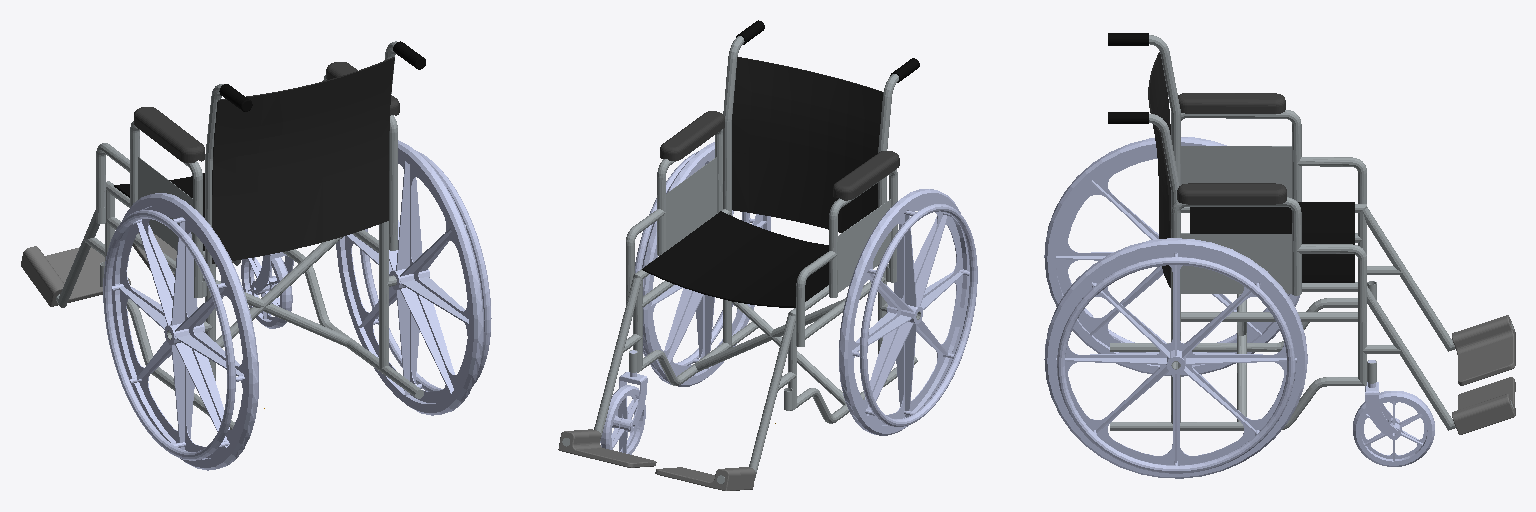
The robot description file, URDF, robot "nirajwheelchair":
<robot
  name="nirajwheelchair">
  <link name="base_footprint">
    <visual>
      <origin xyz="0 0 0" rpy="0 0 0" />
        <geometry>
          <box size="0.001 0.001 0.001" />
        </geometry>
    </visual>
  </link>

  <joint name="base_footprint_joint" type="fixed">
    <origin xyz=" 0 0 0.2413" rpy="0 0 0"/>
    <parent link="base_footprint"/>
    <child link="base_link"/>
  </joint>
  <link
    name="base_link">
    <inertial>
      <origin
        xyz="-1.28082845038258E-05 0.101071625118331 -0.0727610834451831"
        rpy="0 0 0" />
      <mass
        value="2.91813448792695" />
      <inertia
        ixx="0.256407422045815"
        ixy="9.4092534200971E-07"
        ixz="-5.14055785103768E-06"
        iyy="0.264943521878258"
        iyz="0.0458755340734657"
        izz="0.241041719198046" />
    </inertial>
    <visual>
      <origin
        xyz="0 0 0"
        rpy="0 0 0" />
      <geometry>
        <mesh
          filename="package://nirajwheelchair/meshes/base_link.STL" />
      </geometry>
      <material
        name="">
        <color
          rgba="0.63921568627451 0.666666666666667 0.67843137254902 1" />
      </material>
    </visual>
    <collision>
      <origin
        xyz="0 0 0"
        rpy="0 0 0" />
      <geometry>
        <mesh
          filename="package://nirajwheelchair/meshes/base_link.STL" />
      </geometry>
    </collision>
  </link>
  <link
    name="leftwheel_large">
    <inertial>
      <origin
        xyz="0.00884272121955415 -1.52655665885959E-16 0"
        rpy="0 0 0" />
      <mass
        value="2.09127347260337" />
      <inertia
        ixx="0.141718020445608"
        ixy="-1.70129038814037E-18"
        ixz="4.38298979910474E-20"
        iyy="0.0715623057287749"
        iyz="-7.37535946286494E-20"
        izz="0.071562305728775" />
    </inertial>
    <visual>
      <origin
        xyz="0 0 0"
        rpy="0 0 0" />
      <geometry>
        <mesh
          filename="package://nirajwheelchair/meshes/leftwheel_large.STL" />
      </geometry>
      <material
        name="">
        <color
          rgba="0.796078431372549 0.823529411764706 0.937254901960784 1" />
      </material>
    </visual>
    <collision>
      <origin
        xyz="0 0 0"
        rpy="0 0 0" />
      <geometry>
        <mesh
          filename="package://nirajwheelchair/meshes/leftwheel_large.STL" />
      </geometry>
    </collision>
  </link>
  <joint
    name="leftwheel_large_joint"
    type="continuous">
    <origin
      xyz="-0.2794 -0.14129 0.0635"
      rpy="1.5708 0 3.1416" />
    <parent
      link="base_link" />
    <child
      link="leftwheel_large" />
    <axis
      xyz="1 0 0" />
  </joint>
  <link
    name="rightwheel_large">
    <inertial>
      <origin
        xyz="0.00884272121955421 5.55111512312578E-17 0"
        rpy="0 0 0" />
      <mass
        value="2.09127347260337" />
      <inertia
        ixx="0.141718020445608"
        ixy="-3.7003510904469E-18"
        ixz="1.20087974757339E-18"
        iyy="0.0715623057287749"
        iyz="5.59523873906816E-18"
        izz="0.071562305728775" />
    </inertial>
    <visual>
      <origin
        xyz="0 0 0"
        rpy="0 0 0" />
      <geometry>
        <mesh
          filename="package://nirajwheelchair/meshes/rightwheel_large.STL" />
      </geometry>
      <material
        name="">
        <color
          rgba="0.796078431372549 0.823529411764706 0.937254901960784 1" />
      </material>
    </visual>
    <collision>
      <origin
        xyz="0 0 0"
        rpy="0 0 0" />
      <geometry>
        <mesh
          filename="package://nirajwheelchair/meshes/rightwheel_large.STL" />
      </geometry>
    </collision>
  </link>
  <joint
    name="rightwheel_large_joint"
    type="continuous">
    <origin
      xyz="0.2794 -0.14129 0.0635"
      rpy="1.5708 0 0" />
    <parent
      link="base_link" />
    <child
      link="rightwheel_large" />
    <axis
      xyz="-1 0 0" />
  </joint>
  <link
    name="rightcaster">
    <inertial>
      <origin
        xyz="2.2944E-08 -0.079941 -0.0063847"
        rpy="0 0 0" />
      <mass
        value="0.064123" />
      <inertia
        ixx="0.0001406"
        ixy="2.3627E-11"
        ixz="-7.5709E-12"
        iyy="4.0905E-05"
        iyz="3.0634E-05"
        izz="0.00015091" />
    </inertial>
    <visual>
      <origin
        xyz="0 0 0"
        rpy="0 0 0" />
      <geometry>
        <mesh
          filename="package://nirajwheelchair/meshes/rightcaster.STL" />
      </geometry>
      <material
        name="">
        <color
          rgba="0.79216 0.81961 0.93333 1" />
      </material>
    </visual>
    <collision>
      <origin
        xyz="0 0 0"
        rpy="0 0 0" />
      <geometry>
        <mesh
          filename="package://nirajwheelchair/meshes/rightcaster.STL" />
      </geometry>
    </collision>
  </link>
  <joint
    name="rightcaster_joint"
    type="continuous">
    <origin
      xyz="0.2159 0.312737499999999 0.0253999999999996"
      rpy="1.5707963267949 0 0" />
    <parent
      link="base_link" />
    <child
      link="rightcaster" />
    <axis
      xyz="0 -1 0" />
  </joint>
  <link
    name="rightwheel_small">
    <inertial>
      <origin
        xyz="3.6892711108294E-13 2.77555756156289E-17 -5.55111512312578E-17"
        rpy="0 0 0" />
      <mass
        value="0.290948648858616" />
      <inertia
        ixx="0.00171792777524044"
        ixy="4.50037951992549E-20"
        ixz="-1.44756607081068E-21"
        iyy="0.000880037934920854"
        iyz="9.06796746511257E-20"
        izz="0.000880037934920855" />
    </inertial>
    <visual>
      <origin
        xyz="0 0 0"
        rpy="0 0 0" />
      <geometry>
        <mesh
          filename="package://nirajwheelchair/meshes/rightwheel_small.STL" />
      </geometry>
      <material
        name="">
        <color
          rgba="0.796078431372549 0.823529411764706 0.937254901960784 1" />
      </material>
    </visual>
    <collision>
      <origin
        xyz="0 0 0"
        rpy="0 0 0" />
      <geometry>
        <mesh
          filename="package://nirajwheelchair/meshes/rightwheel_small.STL" />
      </geometry>
    </collision>
  </link>
  <joint
    name="rightwheel_small_joint"
    type="continuous">
    <origin
      xyz="0 -0.17145 -0.0508"
      rpy="0 0 0" />
    <parent
      link="rightcaster" />
    <child
      link="rightwheel_small" />
    <axis
      xyz="-1 0 0" />
  </joint>
  <link
    name="leftcaster">
    <inertial>
      <origin
        xyz="2.2944E-08 -0.079941 -0.0063847"
        rpy="0 0 0" />
      <mass
        value="0.064123" />
      <inertia
        ixx="0.0001406"
        ixy="2.3627E-11"
        ixz="-7.5709E-12"
        iyy="4.0905E-05"
        iyz="3.0634E-05"
        izz="0.00015091" />
    </inertial>
    <visual>
      <origin
        xyz="0 0 0"
        rpy="0 0 0" />
      <geometry>
        <mesh
          filename="package://nirajwheelchair/meshes/leftcaster.STL" />
      </geometry>
      <material
        name="">
        <color
          rgba="0.79216 0.81961 0.93333 1" />
      </material>
    </visual>
    <collision>
      <origin
        xyz="0 0 0"
        rpy="0 0 0" />
      <geometry>
        <mesh
          filename="package://nirajwheelchair/meshes/leftcaster.STL" />
      </geometry>
    </collision>
  </link>
  <joint
    name="leftcaster_joint"
    type="continuous">
    <origin
      xyz="-0.2159 0.31274 0.0254"
      rpy="1.5708 0 0" />
    <parent
      link="base_link" />
    <child
      link="leftcaster" />
    <axis
      xyz="0 -1 0" />
  </joint>
  <link
    name="leftwheel_small">
    <inertial>
      <origin
        xyz="3.6892711108294E-13 2.77555756156289E-17 -5.55111512312578E-17"
        rpy="0 0 0" />
      <mass
        value="0.290948648858616" />
      <inertia
        ixx="0.00171792777524044"
        ixy="4.50037951992647E-20"
        ixz="-1.55096364737737E-21"
        iyy="0.000880037934920855"
        iyz="9.04728794979875E-20"
        izz="0.000880037934920855" />
    </inertial>
    <visual>
      <origin
        xyz="0 0 0"
        rpy="0 0 0" />
      <geometry>
        <mesh
          filename="package://nirajwheelchair/meshes/leftwheel_small.STL" />
      </geometry>
      <material
        name="">
        <color
          rgba="0.796078431372549 0.823529411764706 0.937254901960784 1" />
      </material>
    </visual>
    <collision>
      <origin
        xyz="0 0 0"
        rpy="0 0 0" />
      <geometry>
        <mesh
          filename="package://nirajwheelchair/meshes/leftwheel_small.STL" />
      </geometry>
    </collision>
  </link>
  <joint
    name="leftwheel_small_joint"
    type="continuous">
    <origin
      xyz="0 -0.17145 -0.0508"
      rpy="0 0 0" />
    <parent
      link="leftcaster" />
    <child
      link="leftwheel_small" />
    <axis
      xyz="-1 0 0" />
  </joint>
  <link
    name="rightarm">
    <inertial>
      <origin
        xyz="1.18010281741077E-07 0.185166937072231 -0.199206461461145"
        rpy="0 0 0" />
      <mass
        value="0.471825089726768" />
      <inertia
        ixx="0.0155593318644731"
        ixy="1.84439011258916E-09"
        ixz="-3.43766589699374E-09"
        iyy="0.0117190838949384"
        iyz="0.00138642687496885"
        izz="0.00386697456778474" />
    </inertial>
    <visual>
      <origin
        xyz="0 0 0"
        rpy="0 0 0" />
      <geometry>
        <mesh
          filename="package://nirajwheelchair/meshes/rightarm.STL" />
      </geometry>
      <material
        name="">
        <color
          rgba="0.63921568627451 0.666666666666667 0.67843137254902 1" />
      </material>
    </visual>
    <collision>
      <origin
        xyz="0 0 0"
        rpy="0 0 0" />
      <geometry>
        <mesh
          filename="package://nirajwheelchair/meshes/rightarm.STL" />
      </geometry>
    </collision>
  </link>
  <joint
    name="rightarm_joint"
    type="fixed">
    <origin
      xyz="0.23813 -0.14129 0.1397"
      rpy="1.5708 0 0" />
    <parent
      link="base_link" />
    <child
      link="rightarm" />
    <axis
      xyz="0 0 0" />
  </joint>
  <link
    name="right_armrest">
    <inertial>
      <origin
        xyz="-2.42861286636753E-17 0.0157847733756278 -3.11620174109351E-12"
        rpy="0 0 0" />
      <mass
        value="0.408415585541636" />
      <inertia
        ixx="0.000135173991787839"
        ixy="5.02807841910249E-20"
        ixz="4.88453589208517E-14"
        iyy="0.00211830087648834"
        iyz="-9.09079579520897E-14"
        izz="0.00204476151647392" />
    </inertial>
    <visual>
      <origin
        xyz="0 0 0"
        rpy="0 0 0" />
      <geometry>
        <mesh
          filename="package://nirajwheelchair/meshes/right_armrest.STL" />
      </geometry>
      <material
        name="">
        <color
          rgba="0.294117647058824 0.294117647058824 0.294117647058824 1" />
      </material>
    </visual>
    <collision>
      <origin
        xyz="0 0 0"
        rpy="0 0 0" />
      <geometry>
        <mesh
          filename="package://nirajwheelchair/meshes/right_armrest.STL" />
      </geometry>
    </collision>
  </link>
  <joint
    name="right_armrest_joint"
    type="fixed">
    <origin
      xyz="0 0.31115 -0.12979"
      rpy="0 1.5708 0" />
    <parent
      link="rightarm" />
    <child
      link="right_armrest" />
    <axis
      xyz="0 0 0" />
  </joint>
  <link
    name="leftarm">
    <inertial>
      <origin
        xyz="1.18010281685565E-07 0.185166937072233 -0.199206461461144"
        rpy="0 0 0" />
      <mass
        value="0.471825089726767" />
      <inertia
        ixx="0.015559331864473"
        ixy="1.84439011362186E-09"
        ixz="-3.43766589311025E-09"
        iyy="0.0117190838949385"
        iyz="0.00138642687496879"
        izz="0.00386697456778471" />
    </inertial>
    <visual>
      <origin
        xyz="0 0 0"
        rpy="0 0 0" />
      <geometry>
        <mesh
          filename="package://nirajwheelchair/meshes/leftarm.STL" />
      </geometry>
      <material
        name="">
        <color
          rgba="0.63921568627451 0.666666666666667 0.67843137254902 1" />
      </material>
    </visual>
    <collision>
      <origin
        xyz="0 0 0"
        rpy="0 0 0" />
      <geometry>
        <mesh
          filename="package://nirajwheelchair/meshes/leftarm.STL" />
      </geometry>
    </collision>
  </link>
  <joint
    name="leftarm_joint"
    type="fixed">
    <origin
      xyz="-0.24692 -0.1412 0.1397"
      rpy="1.5708 -1.2478E-18 -0.02038" />
    <parent
      link="base_link" />
    <child
      link="leftarm" />
    <axis
      xyz="0 0 0" />
  </joint>
  <link
    name="left_armrest">
    <inertial>
      <origin
        xyz="1.52655665885959E-16 0.0157847733756278 -3.11620174109351E-12"
        rpy="0 0 0" />
      <mass
        value="0.408415585541636" />
      <inertia
        ixx="0.000135173991787839"
        ixy="-1.73218564538266E-17"
        ixz="4.88618841500382E-14"
        iyy="0.00211830087648834"
        iyz="-9.09079215940594E-14"
        izz="0.00204476151647392" />
    </inertial>
    <visual>
      <origin
        xyz="0 0 0"
        rpy="0 0 0" />
      <geometry>
        <mesh
          filename="package://nirajwheelchair/meshes/left_armrest.STL" />
      </geometry>
      <material
        name="">
        <color
          rgba="0.294117647058824 0.294117647058824 0.294117647058824 1" />
      </material>
    </visual>
    <collision>
      <origin
        xyz="0 0 0"
        rpy="0 0 0" />
      <geometry>
        <mesh
          filename="package://nirajwheelchair/meshes/left_armrest.STL" />
      </geometry>
    </collision>
  </link>
  <joint
    name="left_armrest_joint"
    type="fixed">
    <origin
      xyz="0 0.31115 0"
      rpy="0 1.5708 0" />
    <parent
      link="leftarm" />
    <child
      link="left_armrest" />
    <axis
      xyz="0 0 0" />
  </joint>
  <link
    name="footrest_right">
    <inertial>
      <origin
        xyz="-0.0236226570016088 0.0138345880544009 1.18350340638784E-09"
        rpy="0 0 0" />
      <mass
        value="0.501530967220647" />
      <inertia
        ixx="0.000903120970728862"
        ixy="-0.000220262508399431"
        ixz="-5.59521519754147E-11"
        iyy="0.00273494587361928"
        iyz="1.10352302924895E-11"
        izz="0.0020199225032826" />
    </inertial>
    <visual>
      <origin
        xyz="0 0 0"
        rpy="0 0 0" />
      <geometry>
        <mesh
          filename="package://nirajwheelchair/meshes/footrest_right.STL" />
      </geometry>
      <material
        name="">
        <color
          rgba="0.494117647058824 0.494117647058824 0.494117647058824 1" />
      </material>
    </visual>
    <collision>
      <origin
        xyz="0 0 0"
        rpy="0 0 0" />
      <geometry>
        <mesh
          filename="package://nirajwheelchair/meshes/footrest_right.STL" />
      </geometry>
    </collision>
  </link>
  <joint
    name="footrest_right_joint"
    type="fixed">
    <origin
      xyz="0.133349996040531 0.57997143308514 -0.131687141742198"
      rpy="1.22173047639603 -1.46483635954078E-07 3.14159265358979" />
    <parent
      link="base_link" />
    <child
      link="footrest_right" />
    <axis
      xyz="0 0 0" />
  </joint>
  <link
    name="footrest_left">
    <inertial>
      <origin
        xyz="-0.0236226546114514 0.0138345921356111 0"
        rpy="0 0 0" />
      <mass
        value="0.501530967220646" />
      <inertia
        ixx="0.000903121046837002"
        ixy="-0.000220262824877906"
        ixz="-1.02999206386123E-18"
        iyy="0.00273494579751114"
        iyz="-2.60208521396521E-18"
        izz="0.0020199225032826" />
    </inertial>
    <visual>
      <origin
        xyz="0 0 0"
        rpy="0 0 0" />
      <geometry>
        <mesh
          filename="package://nirajwheelchair/meshes/footrest_left.STL" />
      </geometry>
      <material
        name="">
        <color
          rgba="0.494117647058824 0.494117647058824 0.494117647058824 1" />
      </material>
    </visual>
    <collision>
      <origin
        xyz="0 0 0"
        rpy="0 0 0" />
      <geometry>
        <mesh
          filename="package://nirajwheelchair/meshes/footrest_left.STL" />
      </geometry>
    </collision>
  </link>
  <joint
    name="footrest_left_joint"
    type="fixed">
    <origin
      xyz="-0.13335 0.57997 -0.13169"
      rpy="1.9199 0 0" />
    <parent
      link="base_link" />
    <child
      link="footrest_left" />
    <axis
      xyz="0 0 0" />
  </joint>
  <link
    name="rightgrip">
    <inertial>
      <origin
        xyz="-2.77555756156289E-17 0 0.0456011551858931"
        rpy="0 0 0" />
      <mass
        value="0.0252443236384477" />
      <inertia
        ixx="2.24921786050753E-05"
        ixy="6.64838770530638E-38"
        ixz="-8.25558926882581E-22"
        iyy="2.24921786050753E-05"
        iyz="3.9158246270818E-34"
        izz="4.00656160389394E-06" />
    </inertial>
    <visual>
      <origin
        xyz="0 0 0"
        rpy="0 0 0" />
      <geometry>
        <mesh
          filename="package://nirajwheelchair/meshes/rightgrip.STL" />
      </geometry>
      <material
        name="">
        <color
          rgba="0.0980392156862745 0.0980392156862745 0.0980392156862745 1" />
      </material>
    </visual>
    <collision>
      <origin
        xyz="0 0 0"
        rpy="0 0 0" />
      <geometry>
        <mesh
          filename="package://nirajwheelchair/meshes/rightgrip.STL" />
      </geometry>
    </collision>
  </link>
  <joint
    name="rightgrip_joint"
    type="fixed">
    <origin
      xyz="0.2159 -0.300037500000001 0.6477"
      rpy="1.5707963267949 0 3.14159265358979" />
    <parent
      link="base_link" />
    <child
      link="rightgrip" />
    <axis
      xyz="0 0 0" />
  </joint>
  <link
    name="leftgrip">
    <inertial>
      <origin
        xyz="0 1.1102E-16 0.045601"
        rpy="0 0 0" />
      <mass
        value="0.025244" />
      <inertia
        ixx="2.2492E-05"
        ixy="5.8078E-38"
        ixz="8.7567E-22"
        iyy="2.2492E-05"
        iyz="3.6359E-34"
        izz="4.0066E-06" />
    </inertial>
    <visual>
      <origin
        xyz="0 0 0"
        rpy="0 0 0" />
      <geometry>
        <mesh
          filename="package://nirajwheelchair/meshes/leftgrip.STL" />
      </geometry>
      <material
        name="">
        <color
          rgba="0.098039 0.098039 0.098039 1" />
      </material>
    </visual>
    <collision>
      <origin
        xyz="0 0 0"
        rpy="0 0 0" />
      <geometry>
        <mesh
          filename="package://nirajwheelchair/meshes/leftgrip.STL" />
      </geometry>
    </collision>
  </link>
  <joint
    name="leftgrip_joint"
    type="fixed">
    <origin
      xyz="-0.2159 -0.300037500000001 0.6477"
      rpy="1.5707963267949 0 3.14159265358979" />
    <parent
      link="base_link" />
    <child
      link="leftgrip" />
    <axis
      xyz="0 0 0" />
  </joint>
  <link
    name="seat">
    <inertial>
      <origin
        xyz="2.8645E-16 0.0065933 0.1905"
        rpy="0 0 0" />
      <mass
        value="0.63387" />
      <inertia
        ixx="0.007705"
        ixy="2.2272E-17"
        ixz="1.3722E-18"
        iyy="0.01763"
        iyz="-1.2773E-19"
        izz="0.0099994" />
    </inertial>
    <visual>
      <origin
        xyz="0 0 0"
        rpy="0 0 0" />
      <geometry>
        <mesh
          filename="package://nirajwheelchair/meshes/seat.STL" />
      </geometry>
      <material
        name="">
        <color
          rgba="0.1098 0.1098 0.1098 1" />
      </material>
    </visual>
    <collision>
      <origin
        xyz="0 0 0"
        rpy="0 0 0" />
      <geometry>
        <mesh
          filename="package://nirajwheelchair/meshes/seat.STL" />
      </geometry>
    </collision>
  </link>
  <joint
    name="seat_joint"
    type="fixed">
    <origin
      xyz="-0.000758068437348654 0.272009848683766 0.205317756485755"
      rpy="1.5707963267949 0 0" />
    <parent
      link="base_link" />
    <child
      link="seat" />
    <axis
      xyz="0 0 0" />
  </joint>
  <link
    name="back">
    <inertial>
      <origin
        xyz="0.2159 -0.23366 -0.12406"
        rpy="0 0 0" />
      <mass
        value="0.8762" />
      <inertia
        ixx="0.064112"
        ixy="1.2796E-07"
        ixz="-3.0003E-11"
        iyy="0.079205"
        iyz="0.0035815"
        izz="0.14222" />
    </inertial>
    <visual>
      <origin
        xyz="0 0 0"
        rpy="0 0 0" />
      <geometry>
        <mesh
          filename="package://nirajwheelchair/meshes/back.STL" />
      </geometry>
      <material
        name="">
        <color
          rgba="0.2 0.2 0.2 1" />
      </material>
    </visual>
    <collision>
      <origin
        xyz="0 0 0"
        rpy="0 0 0" />
      <geometry>
        <mesh
          filename="package://nirajwheelchair/meshes/back.STL" />
      </geometry>
    </collision>
  </link>
  <joint
    name="back_joint"
    type="fixed">
    <origin
      xyz="-0.2159 -0.30004 0.6477"
      rpy="1.5708 0 0" />
    <parent
      link="base_link" />
    <child
      link="back" />
    <axis
      xyz="0 0 0" />
  </joint>
</robot>

--- What the picture shows (computed from the rendered views, not written in the file) ---
Views: 3 orthographic renders of the robot side by side, from view 1: azimuth 30°, elevation 25°; view 2: azimuth 150°, elevation 25°; view 3: azimuth 270°, elevation 25°.
Model nirajwheelchair with 18 links and 17 joints (6 continuous, 11 fixed), rooted at base_footprint, posed all joints at 0.
Links seen in each view (by area): view 1: back, leftwheel_large, rightwheel_large, base_link, leftarm, footrest_left, left_armrest, rightwheel_small, rightarm, rightcaster, right_armrest; view 2: back, leftwheel_large, base_link, seat, rightwheel_large, rightarm, leftarm, rightwheel_small, footrest_right, left_armrest, right_armrest, footrest_left (+1 smaller); view 3: rightwheel_large, base_link, leftwheel_large, rightarm, leftarm, seat, footrest_left, rightwheel_small, footrest_right, right_armrest, back, left_armrest (+2 smaller).
Boxes of the visible links, x1,y1,x2,y2 form: back: (212, 57, 394, 263); leftwheel_large: (103, 193, 258, 470); rightwheel_large: (336, 140, 491, 415); base_link: (56, 41, 423, 438); leftarm: (96, 121, 202, 297); footrest_left: (21, 246, 130, 306); left_armrest: (134, 107, 204, 162); rightwheel_small: (241, 257, 292, 328); rightarm: (323, 75, 397, 242); rightcaster: (252, 252, 293, 293); right_armrest: (326, 62, 399, 115); back: (732, 57, 882, 232); leftwheel_large: (839, 189, 977, 435); base_link: (562, 36, 920, 483); seat: (642, 211, 828, 307); rightwheel_large: (635, 142, 770, 386); rightarm: (626, 129, 722, 290); leftarm: (796, 169, 897, 332); rightwheel_small: (600, 385, 645, 454); footrest_right: (558, 429, 656, 467); left_armrest: (833, 151, 899, 200); right_armrest: (660, 111, 724, 160); footrest_left: (655, 467, 755, 490); rightwheel_large: (1044, 238, 1307, 478); base_link: (1110, 35, 1513, 430); leftwheel_large: (1044, 137, 1299, 376); rightarm: (1171, 197, 1366, 322); leftarm: (1181, 110, 1366, 203); seat: (1190, 202, 1354, 282); footrest_left: (1452, 315, 1515, 385); rightwheel_small: (1353, 391, 1434, 466); footrest_right: (1452, 377, 1515, 434); right_armrest: (1177, 183, 1286, 204); back: (1148, 52, 1170, 287); left_armrest: (1178, 93, 1285, 113).
Size in the robot's own frame: 0.6541 by 1.09 by 0.9038 metres.
Meshes: 17 distinct files referenced, 15 mesh visuals loaded (15 binary STL); not drawn: 2 (reference not matched to a file when rendering).
